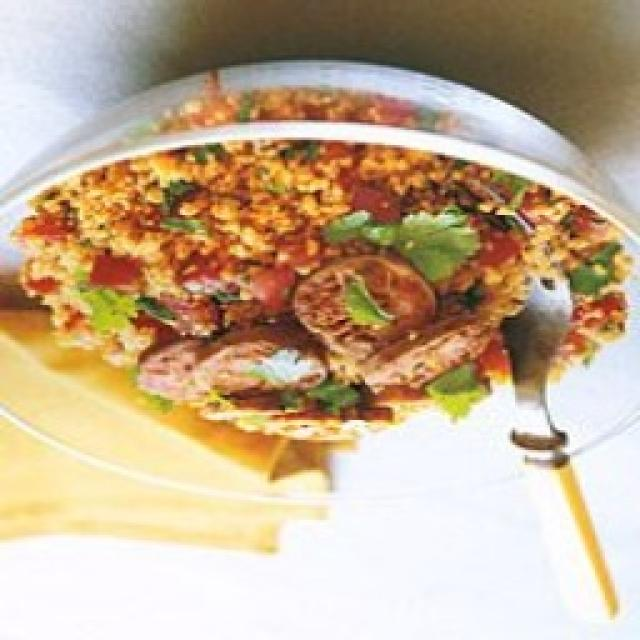Couscous: (16, 141, 630, 441)
